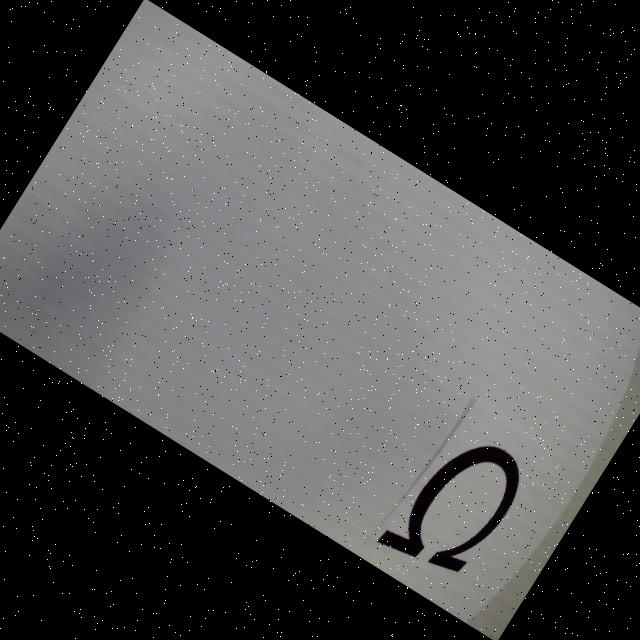OMEGA: (376, 418, 534, 592)
